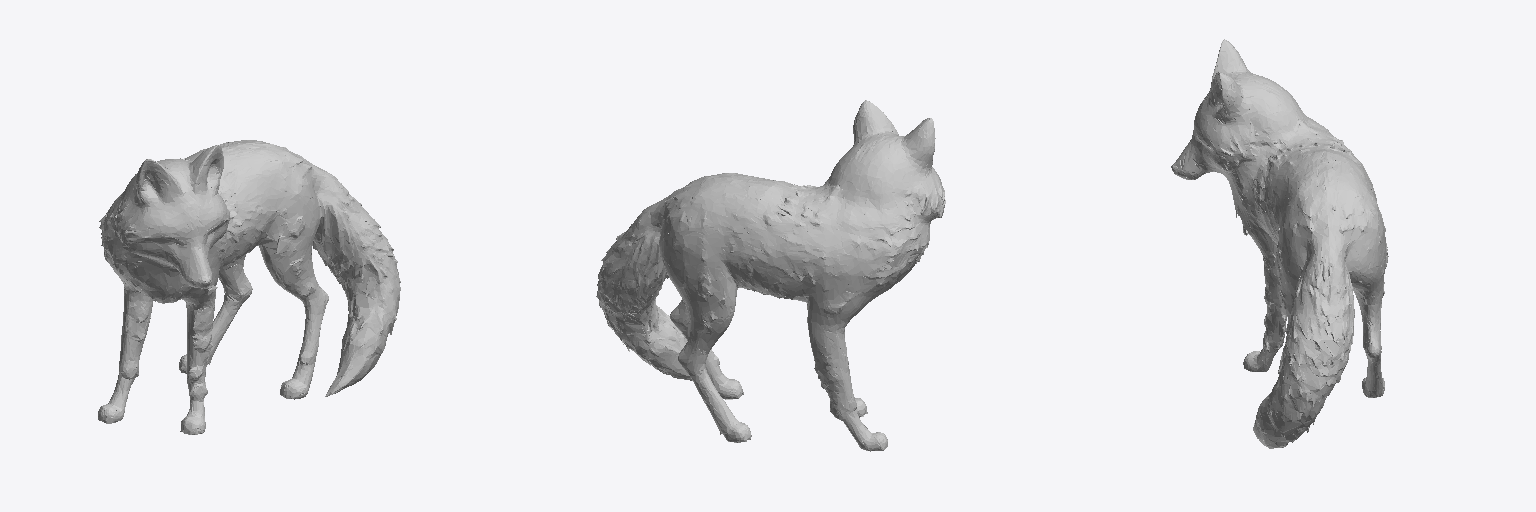
File: test_output_quad.obj
3 views of the same model, side by side, from view 1: azimuth 30°, elevation 25°; view 2: azimuth 150°, elevation 25°; view 3: azimuth 270°, elevation 25° (orthographic).
Size of the model in its own units: 1.98 by 1.85 by 1.21.